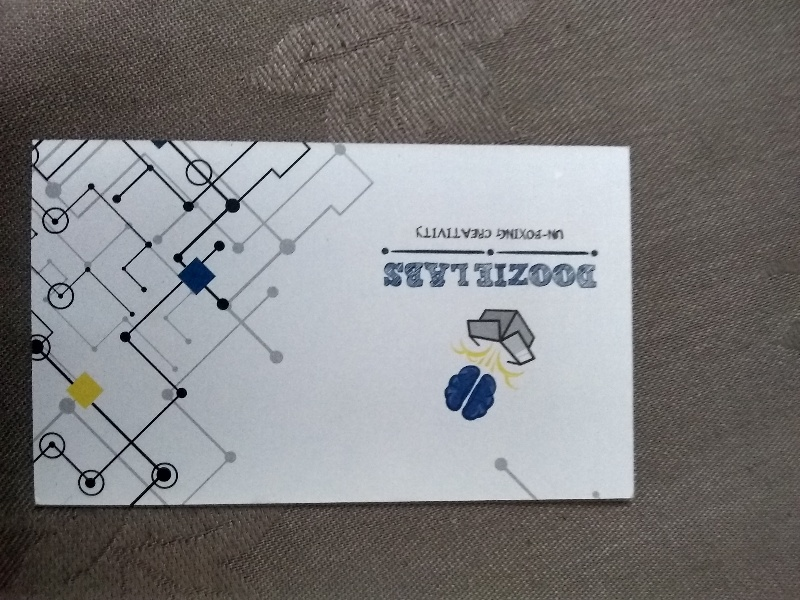back: (27, 140, 640, 504)
